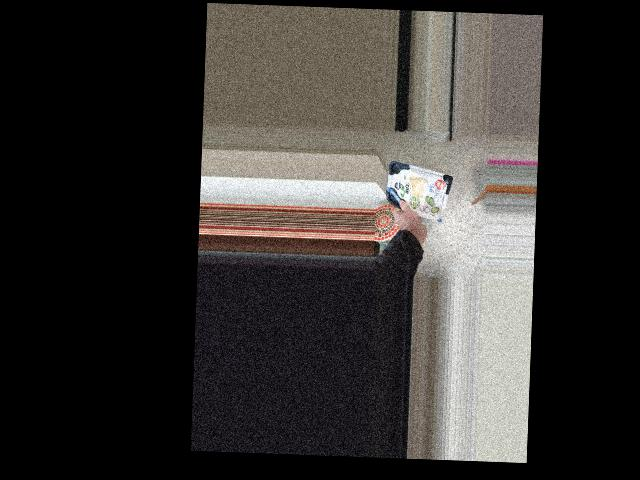cheese: (381, 166, 454, 216)
